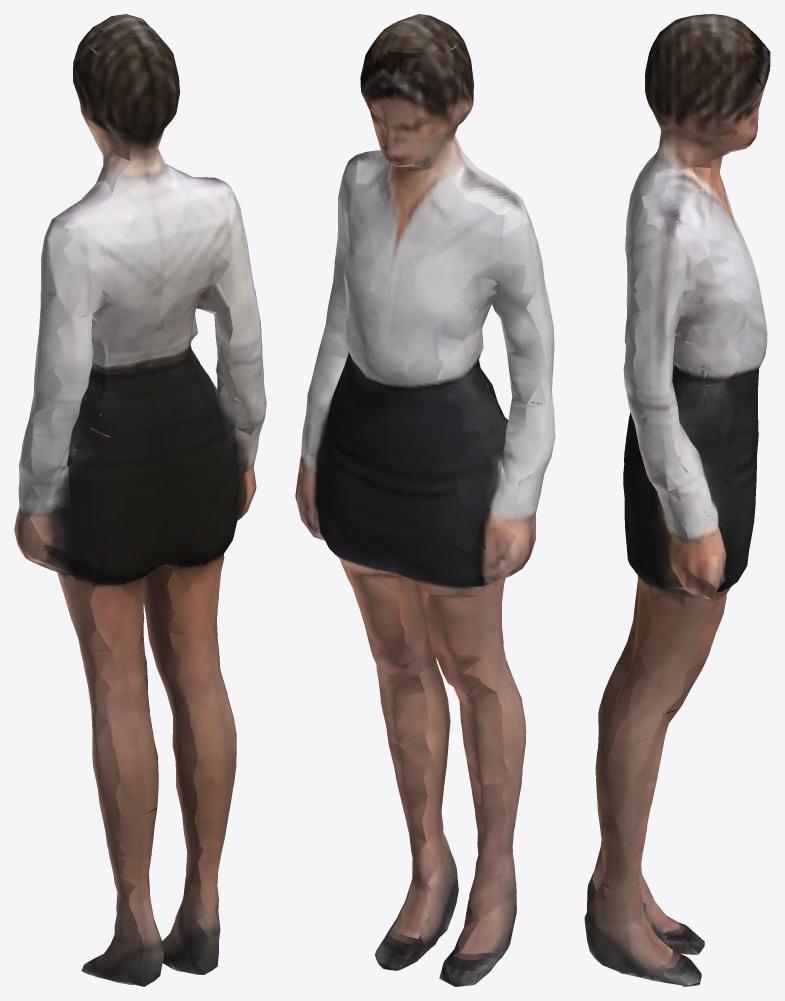
The model's file is atlas_worker.glb.
The picture shows the model from 3 angles, left to right: view 1: azimuth 30°, elevation 25°; view 2: azimuth 150°, elevation 25°; view 3: azimuth 270°, elevation 25°; orthographic projection. The views are drawn at different scales.
Parts seen in each view (by area): view 1: world; view 2: world; view 3: world.
Part boxes in pixels (left/top/right/bottom): world: left=14, top=14, right=266, bottom=986; world: left=295, top=14, right=555, bottom=986; world: left=584, top=14, right=770, bottom=986.
Bounding box in the file's own units: 0.2532 × 0.9477 × 0.1681.
Materials: 1 (1 with a texture image).
